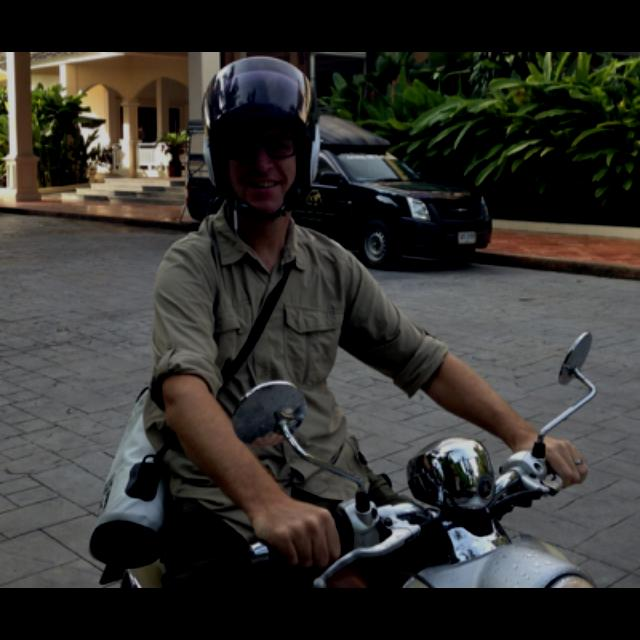With Helmet: (202, 64, 330, 220)
